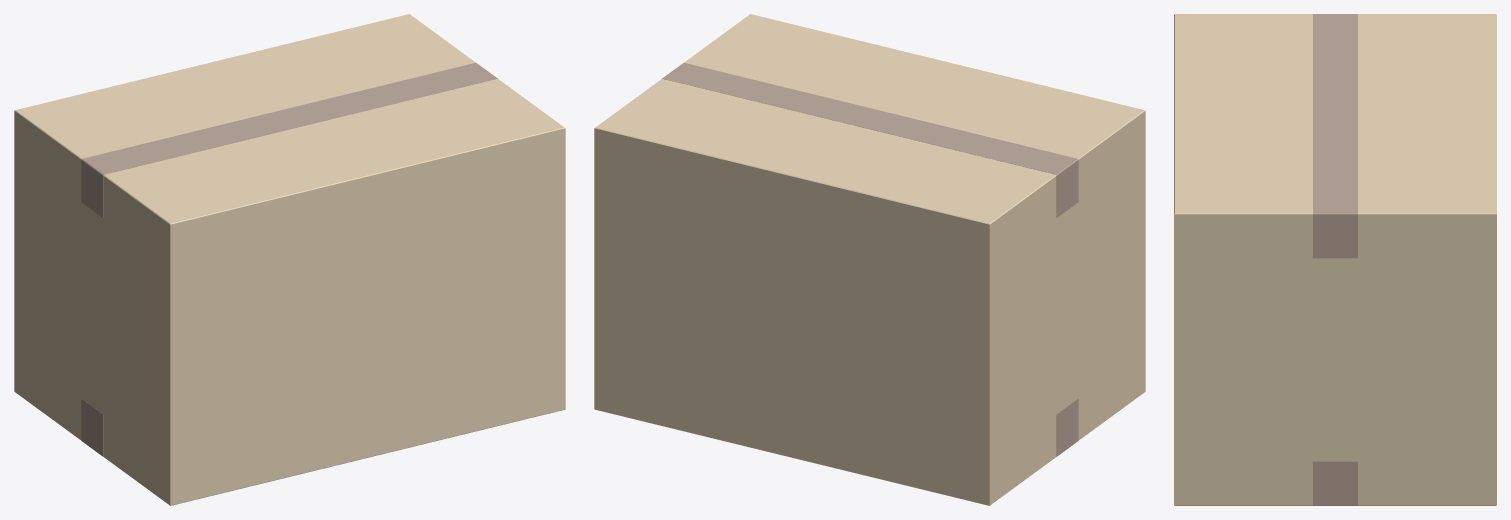
The model's file is 065_ダンボール大閉.glb.
3 renders of one model, left to right at view 1: azimuth 30°, elevation 25°; view 2: azimuth 150°, elevation 25°; view 3: azimuth 270°, elevation 25°, orthographic. The views are drawn at different scales.
Parts seen in each view (by area): view 1: Body; view 2: Body; view 3: Body.
Part boxes in pixels (bbox=[...]): Body: bbox=[14, 14, 565, 505]; Body: bbox=[594, 14, 1145, 505]; Body: bbox=[1174, 14, 1496, 505].
Size of the model in its own units: 0.6304 by 0.4304 by 0.43.
